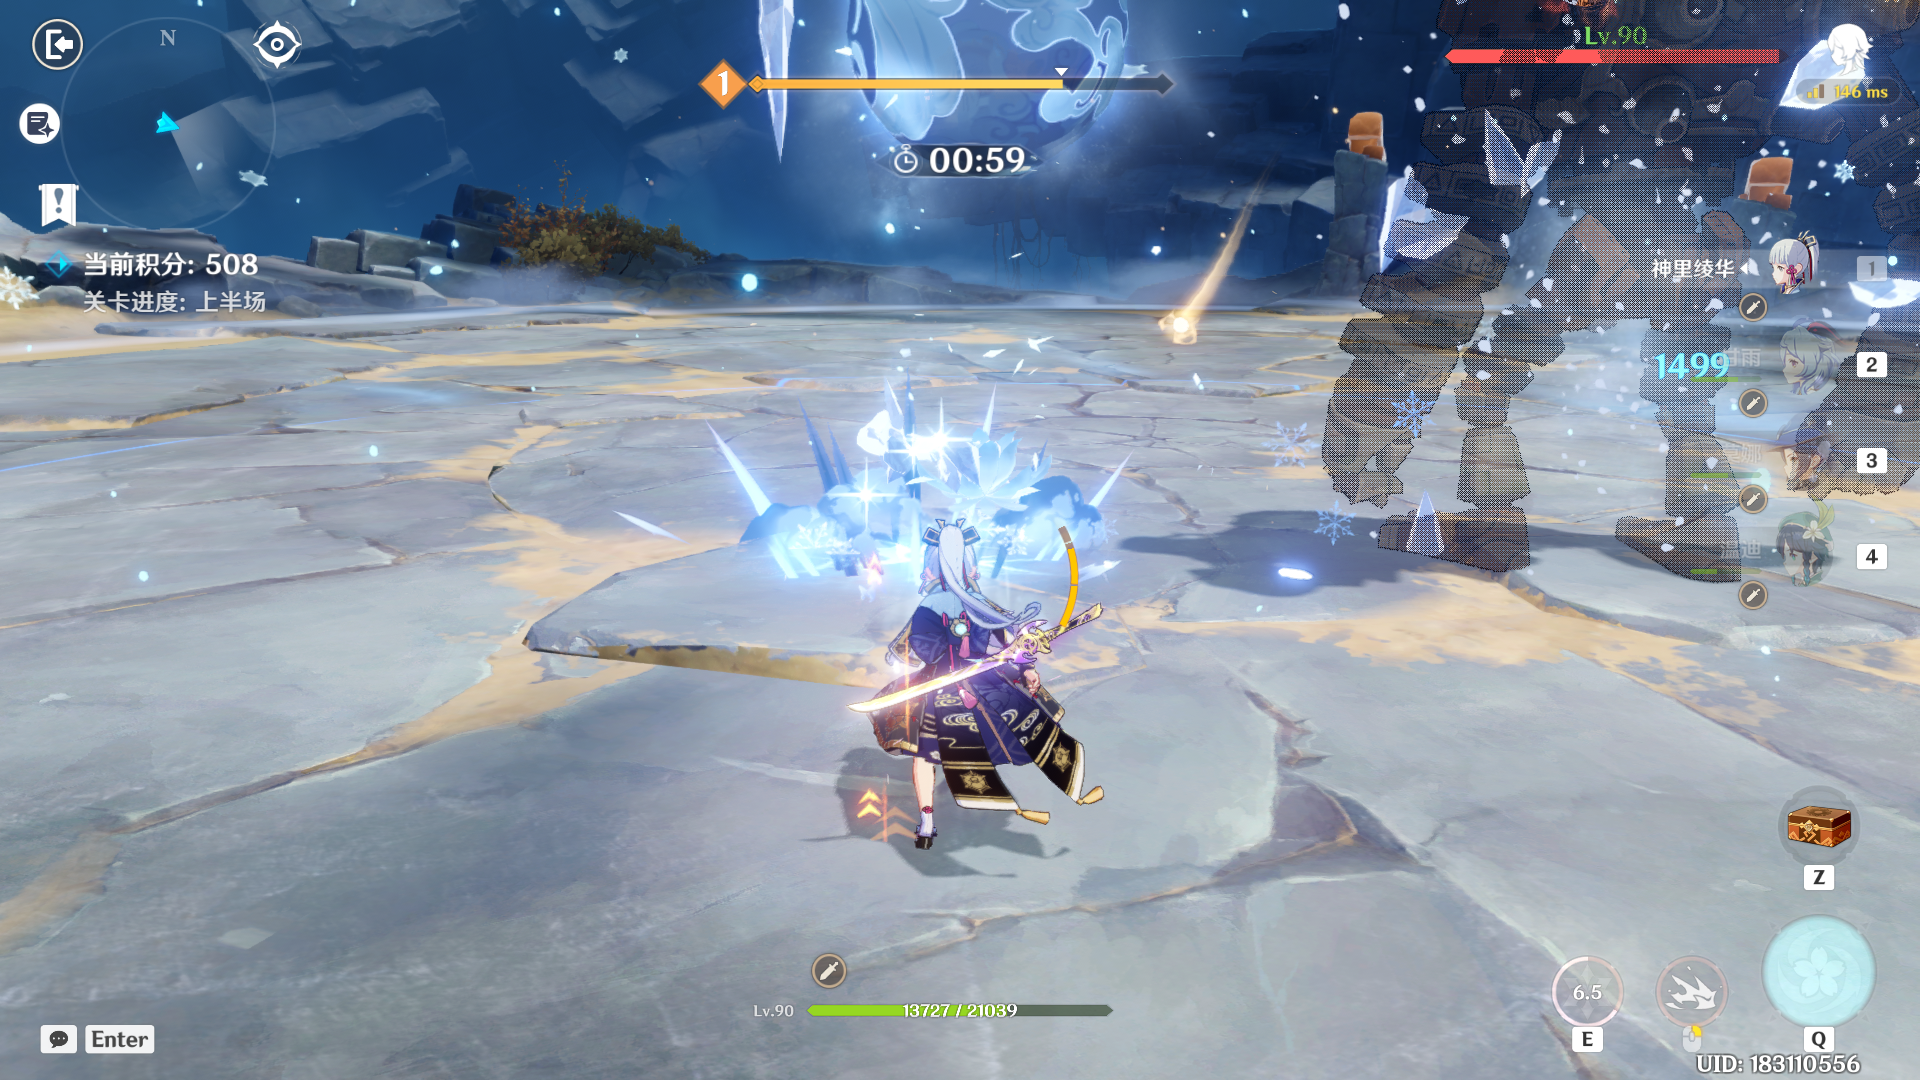character: (858, 481, 1134, 881)
